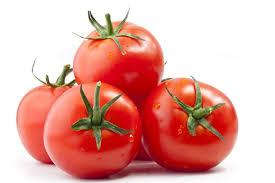tomato: (143, 80, 239, 171), (45, 85, 143, 174), (70, 20, 164, 97), (18, 82, 77, 160)
